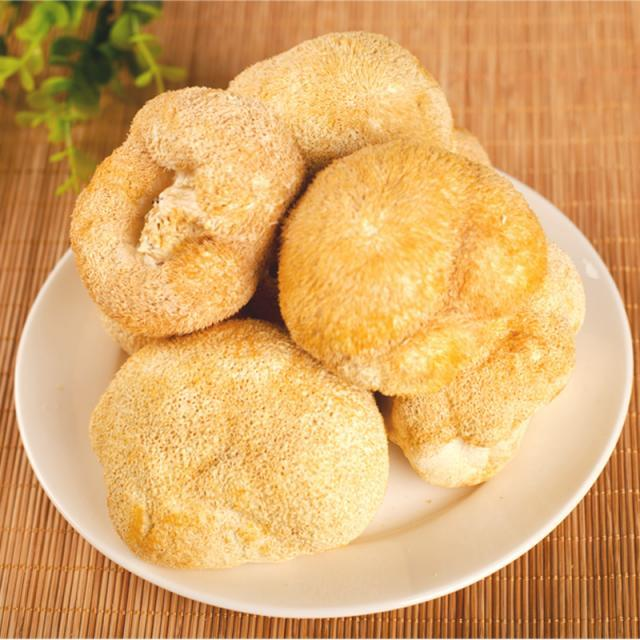Hericium erinaceus: (92, 318, 387, 565), (278, 139, 546, 391), (73, 86, 301, 331), (392, 244, 587, 485), (226, 29, 456, 163)
